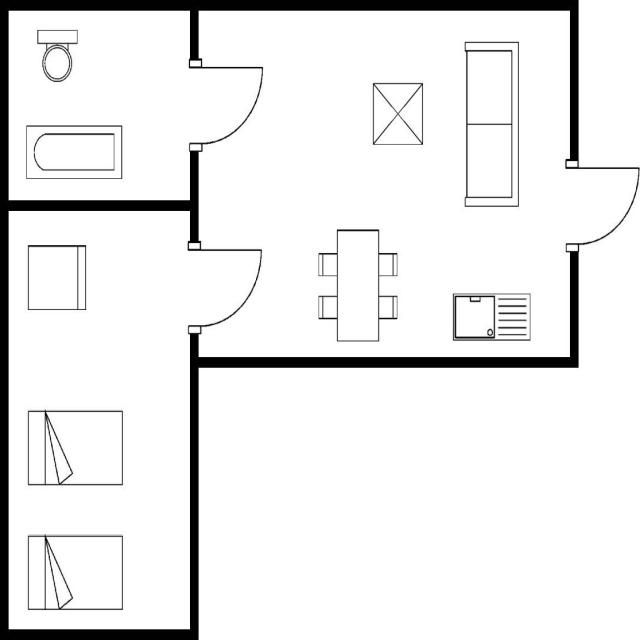bed: (24, 404, 126, 490), (23, 529, 126, 614)
coffee_table: (368, 78, 426, 150)
dining_table: (314, 225, 401, 345)
large_sink: (34, 25, 80, 85)
large_sofa: (459, 36, 521, 211)
sink: (449, 290, 532, 344)
small_sofa: (24, 239, 90, 315)
tub: (22, 120, 126, 183)
